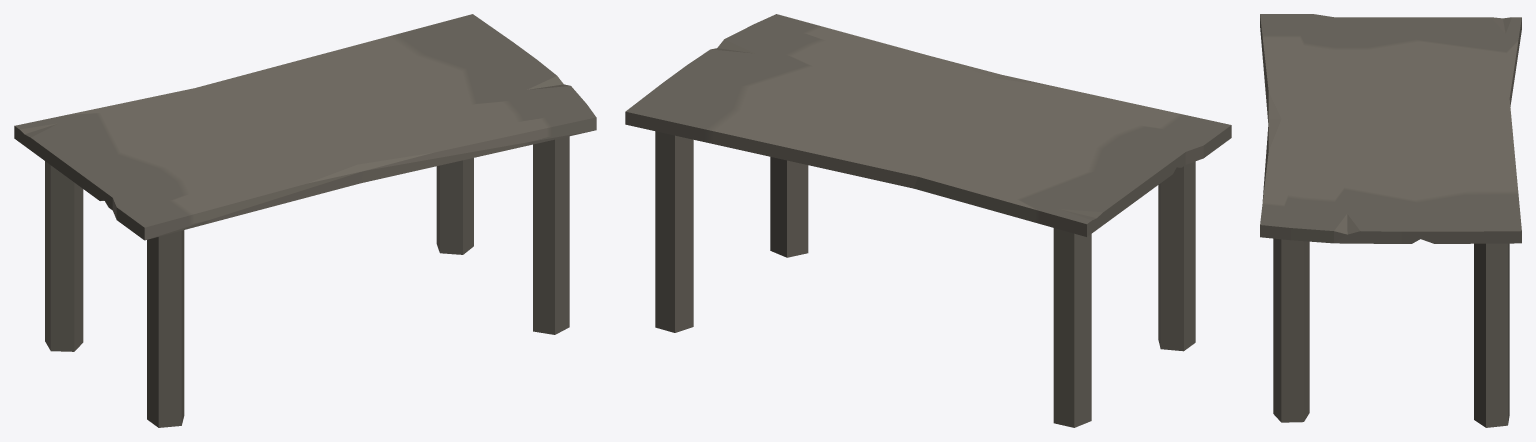
Rendered from SM_Prop_Table_02.glb.
The picture shows the model from 3 angles, left to right: view 1: azimuth 30°, elevation 25°; view 2: azimuth 150°, elevation 25°; view 3: azimuth 270°, elevation 25°; orthographic projection. The views are drawn at different scales.
Parts seen in each view (by area): view 1: SM_Prop_Table_02; view 2: SM_Prop_Table_02; view 3: SM_Prop_Table_02.
Boxes of the visible parts, <box> form: SM_Prop_Table_02: <box>14,14,596,427</box>; SM_Prop_Table_02: <box>625,14,1231,427</box>; SM_Prop_Table_02: <box>1260,14,1521,427</box>.
Size of the model in its own units: 1.76 by 0.7744 by 0.897.
Materials: 1 (1 with a texture image).
